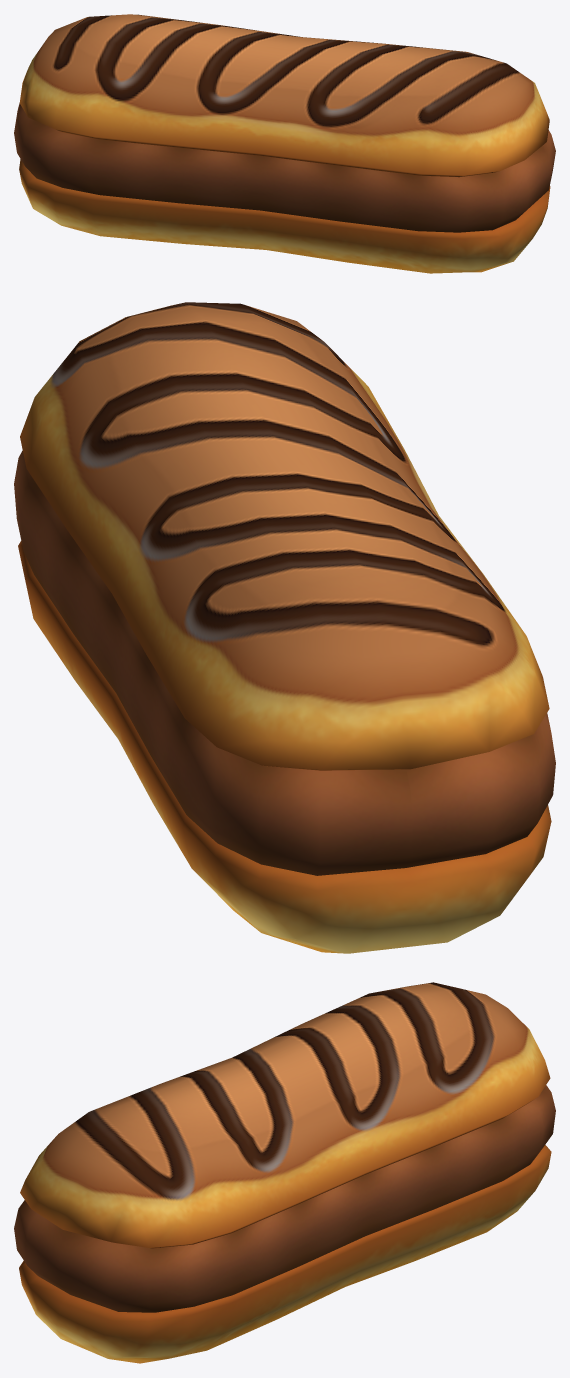
The model's file is 009-Eclairs_04.FBX.
The picture shows the model from 3 angles, top to bottom: view 1: azimuth 30°, elevation 25°; view 2: azimuth 150°, elevation 25°; view 3: azimuth 270°, elevation 25°; orthographic projection. The views are drawn at different scales.
Parts seen in each view (by area): view 1: 009-Eclairs_04; view 2: 009-Eclairs_04; view 3: 009-Eclairs_04.
Part boxes in pixels (x1=…): 009-Eclairs_04: x1=14, y1=14, x2=555, y2=273; 009-Eclairs_04: x1=14, y1=302, x2=555, y2=953; 009-Eclairs_04: x1=14, y1=982, x2=555, y2=1363.
Bounding box in the file's own units: 17.37 × 7.97 × 17.37.
